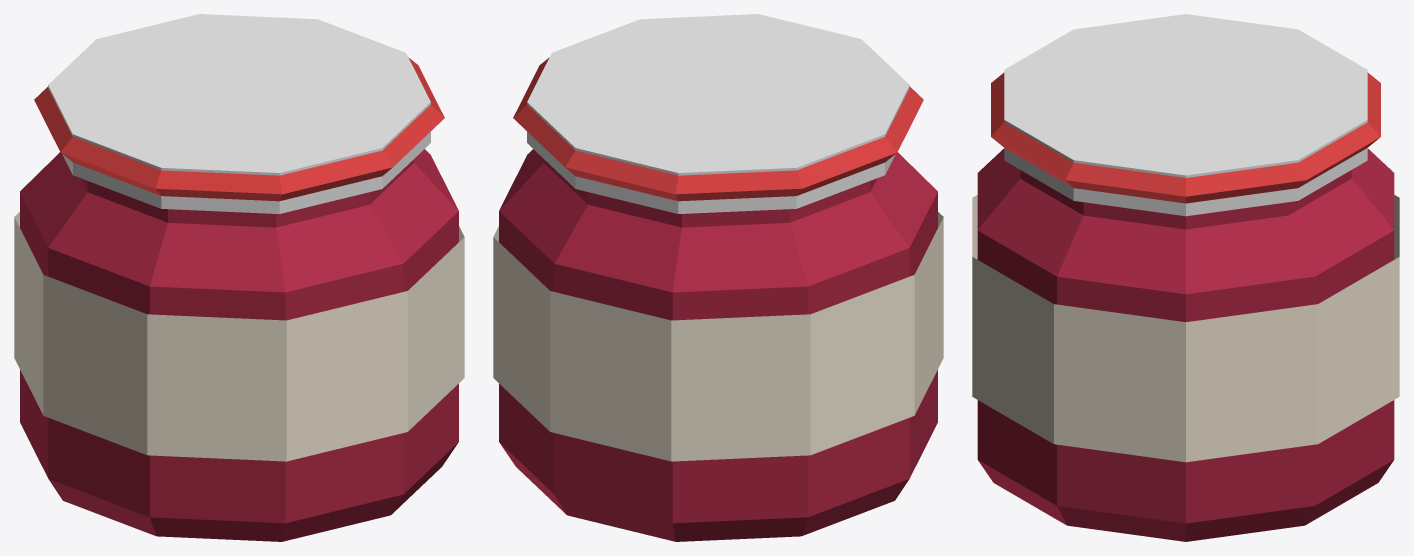
Rendered from Food_Jam.obj.
3 views of the same model, side by side, from view 1: azimuth 30°, elevation 25°; view 2: azimuth 150°, elevation 25°; view 3: azimuth 270°, elevation 25° (orthographic).
Size of the model in its own units: 1.6 by 1.42 by 1.52.
